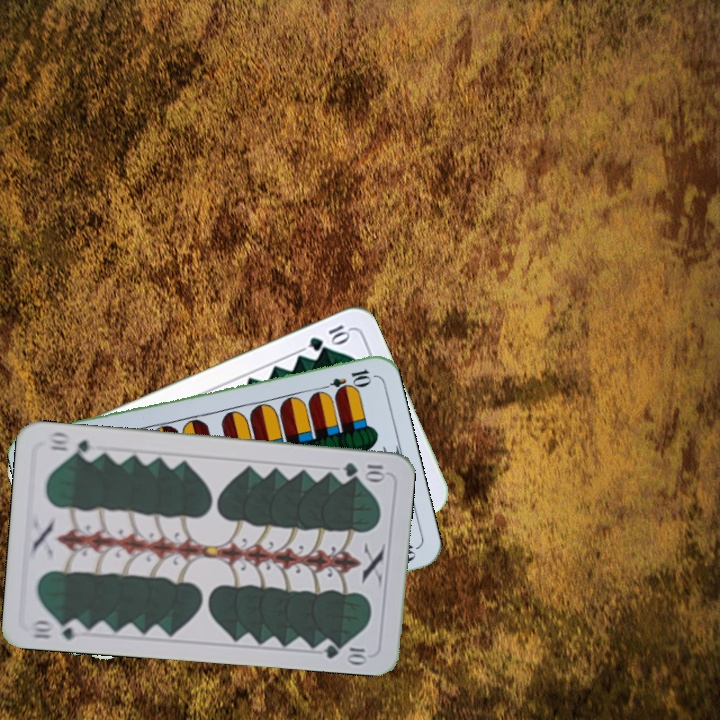E10: (315, 365, 374, 395)
G10: (26, 615, 86, 643), (304, 320, 353, 354), (340, 458, 389, 481)
